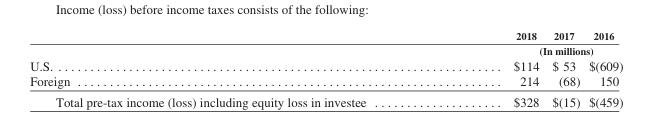table: (29, 29, 622, 108)
table column: (29, 29, 439, 108), (439, 29, 545, 108), (583, 29, 622, 108), (545, 29, 583, 108)
table column header: (29, 29, 622, 57)
table row: (29, 72, 622, 91), (29, 91, 622, 108), (29, 42, 622, 57), (29, 57, 622, 72), (29, 29, 622, 42)
table spanning cell: (439, 42, 622, 57)
